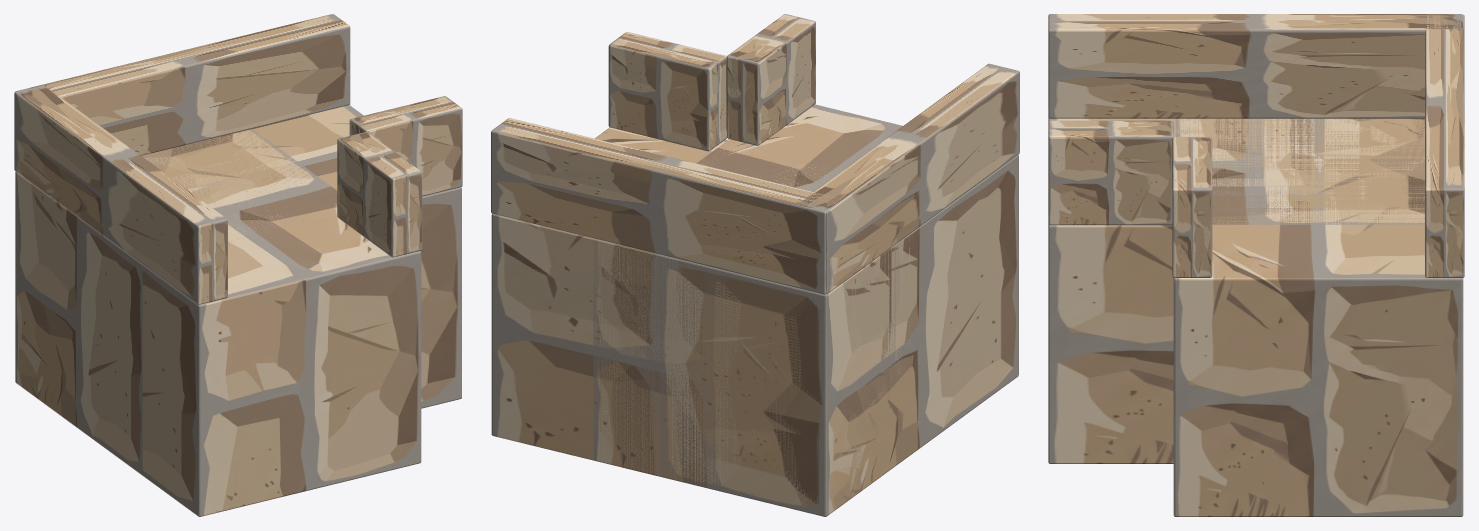
The model's file is fortress_wallwalk_corner_inner_LOD1.glb.
3 views of the same model, side by side, from view 1: azimuth 30°, elevation 25°; view 2: azimuth 150°, elevation 25°; view 3: azimuth 270°, elevation 25° (orthographic). The views are drawn at different scales.
Parts seen in each view (by area): view 1: LOD_ArmSouth, LOD_ArmEast, LOD_Parapet.001, LOD_Parapet, LOD_Parapet.002, LOD_Parapet.003; view 2: LOD_ArmEast, LOD_ArmSouth, LOD_Parapet.001, LOD_Parapet, LOD_Parapet.003, LOD_Parapet.002; view 3: LOD_ArmEast, LOD_ArmSouth, LOD_Parapet, LOD_Parapet.002, LOD_Parapet.001, LOD_Parapet.003.
Boxes of the visible parts, x1,y1,x2,y2 form: LOD_ArmSouth: [37, 129, 421, 516]; LOD_ArmEast: [15, 105, 461, 475]; LOD_Parapet.001: [15, 14, 350, 155]; LOD_Parapet: [14, 85, 227, 304]; LOD_Parapet.002: [337, 132, 422, 257]; LOD_Parapet.003: [349, 96, 462, 196]; LOD_ArmEast: [491, 127, 959, 516]; LOD_ArmSouth: [593, 104, 1018, 516]; LOD_Parapet.001: [491, 118, 836, 294]; LOD_Parapet: [798, 63, 1019, 294]; LOD_Parapet.003: [608, 32, 726, 151]; LOD_Parapet.002: [727, 14, 815, 145]; LOD_ArmEast: [1173, 118, 1463, 516]; LOD_ArmSouth: [1048, 117, 1424, 463]; LOD_Parapet: [1048, 14, 1462, 118]; LOD_Parapet.002: [1048, 120, 1173, 225]; LOD_Parapet.001: [1425, 14, 1464, 277]; LOD_Parapet.003: [1172, 137, 1212, 277].
Bounding box in the file's own units: 4.82 × 4.19 × 4.82.
Materials: 1 (1 with a texture image).
